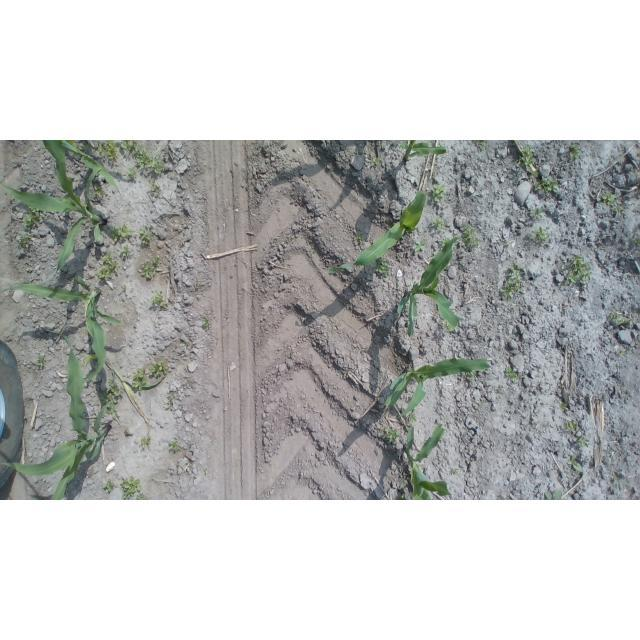Maize: (0, 328, 112, 500), (0, 141, 106, 288), (3, 276, 124, 383), (329, 192, 428, 277), (396, 237, 460, 338), (384, 358, 491, 416), (82, 351, 167, 422), (59, 140, 126, 201), (403, 425, 453, 500), (400, 141, 447, 162)
Weeds: (120, 140, 165, 174), (99, 380, 125, 421), (498, 264, 524, 301), (562, 254, 592, 285), (516, 146, 538, 179), (96, 141, 121, 166), (97, 252, 119, 280), (120, 476, 144, 501), (140, 255, 163, 280), (106, 224, 134, 244), (602, 192, 624, 217), (462, 224, 481, 248), (534, 176, 558, 193), (132, 368, 148, 392), (148, 290, 169, 308), (375, 255, 391, 278), (607, 311, 633, 325), (150, 360, 170, 378), (24, 206, 41, 227), (530, 227, 551, 244), (381, 427, 401, 442), (432, 184, 447, 203), (567, 455, 582, 472), (431, 216, 446, 233), (149, 179, 162, 197), (570, 142, 583, 160), (138, 228, 152, 244), (505, 364, 519, 380), (18, 234, 33, 248), (415, 238, 429, 253), (94, 183, 107, 199), (544, 490, 564, 500), (563, 420, 578, 433), (530, 207, 545, 219), (368, 156, 383, 168), (168, 440, 182, 452), (104, 479, 116, 493), (395, 488, 409, 500), (438, 235, 450, 249), (36, 355, 47, 370), (576, 437, 590, 448), (119, 245, 130, 258), (141, 436, 152, 449), (202, 315, 210, 331), (128, 167, 137, 180), (555, 403, 568, 412), (464, 372, 477, 381), (443, 321, 453, 332), (409, 413, 417, 426), (476, 140, 488, 148), (634, 229, 640, 245), (356, 231, 364, 243), (452, 468, 461, 476), (613, 476, 621, 485), (166, 393, 176, 400), (136, 495, 148, 500), (451, 243, 457, 252), (167, 402, 173, 409), (619, 349, 625, 356), (478, 403, 484, 409), (311, 252, 315, 260), (205, 470, 210, 475), (498, 388, 503, 393), (391, 140, 396, 145), (504, 240, 509, 245), (514, 141, 518, 144)
